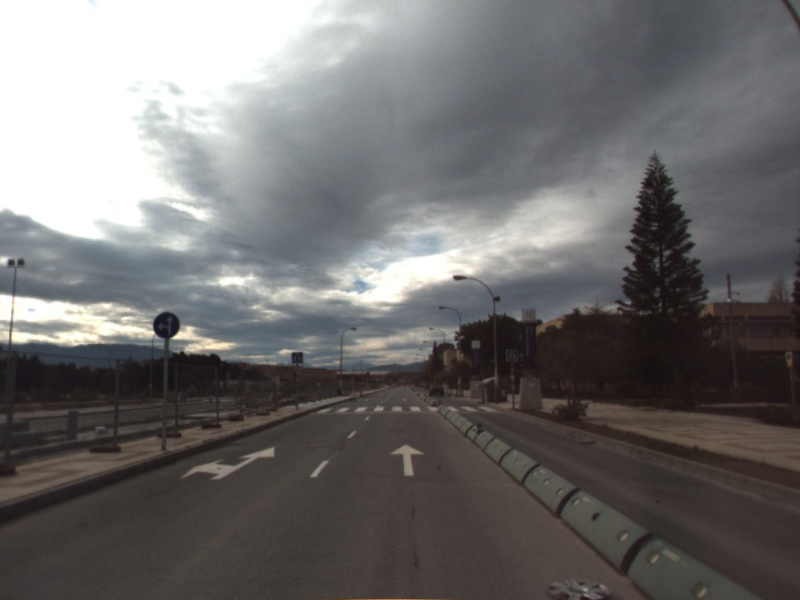STRAIGHT: (388, 442, 427, 478)
STRAIGHT_LEFT: (178, 445, 277, 482)
